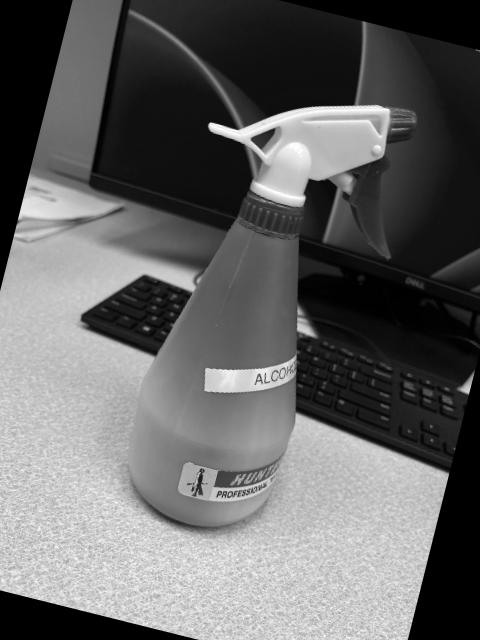AlcoholSpray: (130, 106, 419, 530)
